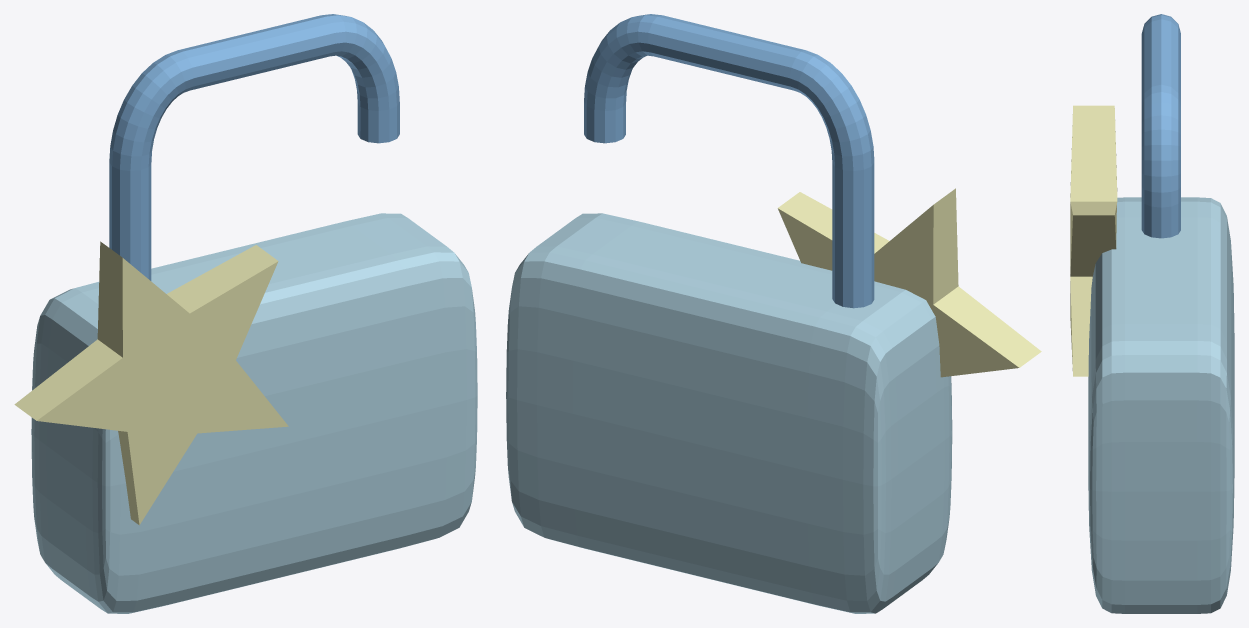
Rendered from 惯性锁.fbx.
The picture shows the model from 3 angles, left to right: view 1: azimuth 30°, elevation 25°; view 2: azimuth 150°, elevation 25°; view 3: azimuth 270°, elevation 25°; orthographic projection. The views are drawn at different scales.
Parts seen in each view (by area): view 1: 柱体.001; view 2: 柱体.001; view 3: 柱体.001.
Boxes of the visible parts, x1,y1,x2,y2 form: 柱体.001: (14,14,477,613); 柱体.001: (506,14,1041,613); 柱体.001: (1070,14,1234,613).
Size of the model in its own units: 106 by 117 by 35.74.
